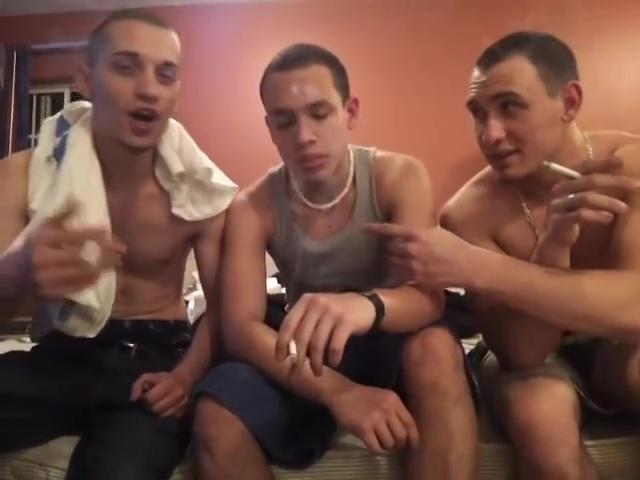cigarette: (543, 159, 588, 180), (289, 336, 301, 366)
